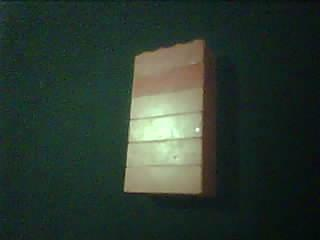lego: (123, 39, 218, 196)
